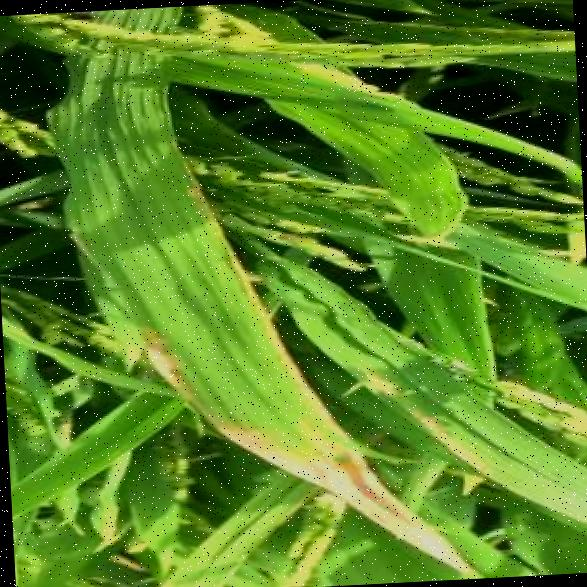Bacteria_Leaf_Blight: (86, 41, 312, 499)
